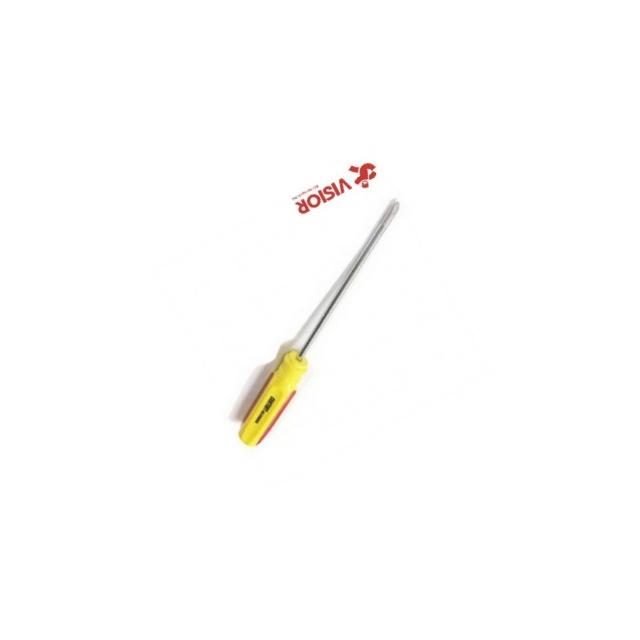screwdriver: (173, 196, 469, 452)
